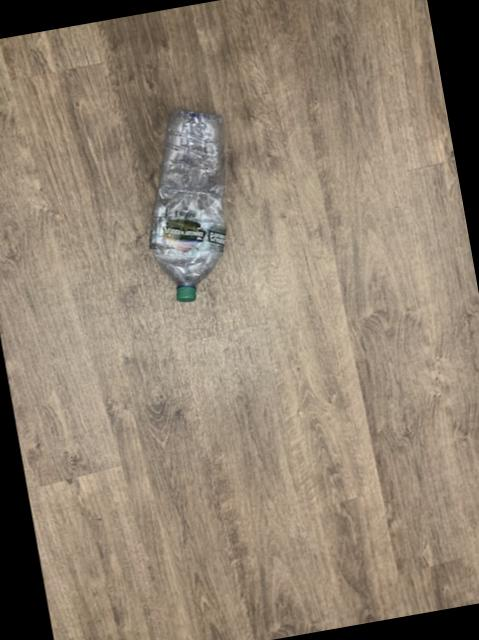plastic: (148, 110, 223, 302)
